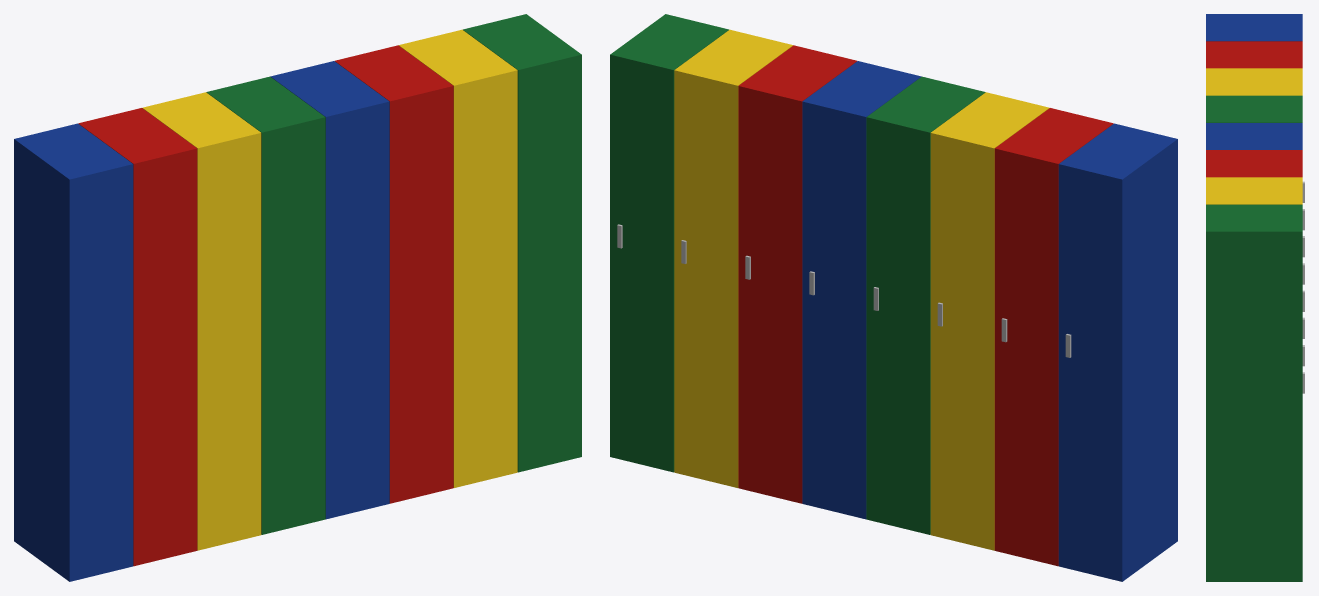
The model's file is school.cloak.locker_run.glb.
3 renders of one model, left to right at view 1: azimuth 30°, elevation 25°; view 2: azimuth 150°, elevation 25°; view 3: azimuth 270°, elevation 25°, orthographic. The views are drawn at different scales.
Visible parts, largest first — view 1: main__plastic_blue, main__plastic_yellow, main__plastic_green, main__plastic_red; view 2: main__plastic_blue, main__plastic_yellow, main__plastic_green, main__plastic_red, main__steel_stainless; view 3: main__plastic_green, main__plastic_red, main__plastic_yellow, main__plastic_blue, main__steel_stainless.
Boxes of the visible parts, box(x1,y1,x2,y2) form: main__plastic_blue: box(14, 61, 389, 581); main__plastic_yellow: box(142, 29, 517, 550); main__plastic_green: box(206, 14, 581, 534); main__plastic_red: box(78, 45, 453, 566); main__plastic_blue: box(802, 61, 1177, 581); main__plastic_yellow: box(674, 29, 1049, 550); main__plastic_green: box(610, 14, 985, 534); main__plastic_red: box(738, 45, 1113, 566); main__steel_stainless: box(617, 224, 1071, 357); main__plastic_green: box(1206, 95, 1302, 581); main__plastic_red: box(1206, 41, 1302, 177); main__plastic_yellow: box(1206, 68, 1302, 204); main__plastic_blue: box(1206, 14, 1302, 149); main__steel_stainless: box(1302, 181, 1304, 393).
Bounding box in the file's own units: 2.4 × 1.8 × 0.46.
